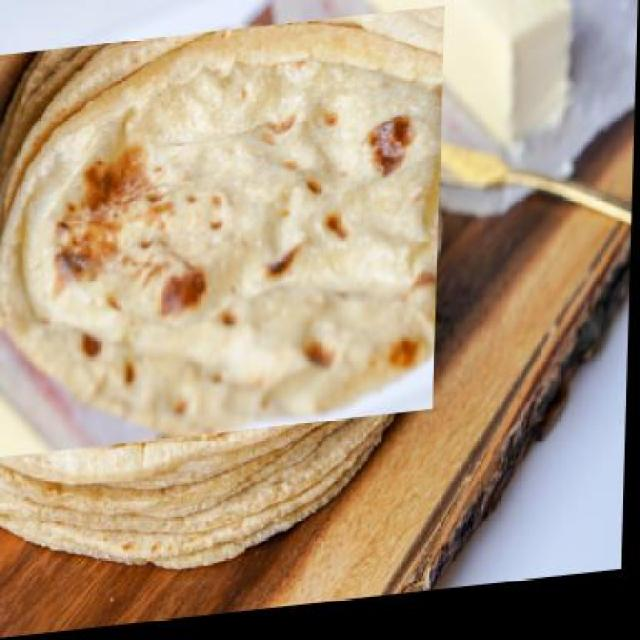chapati: (0, 16, 446, 461)
